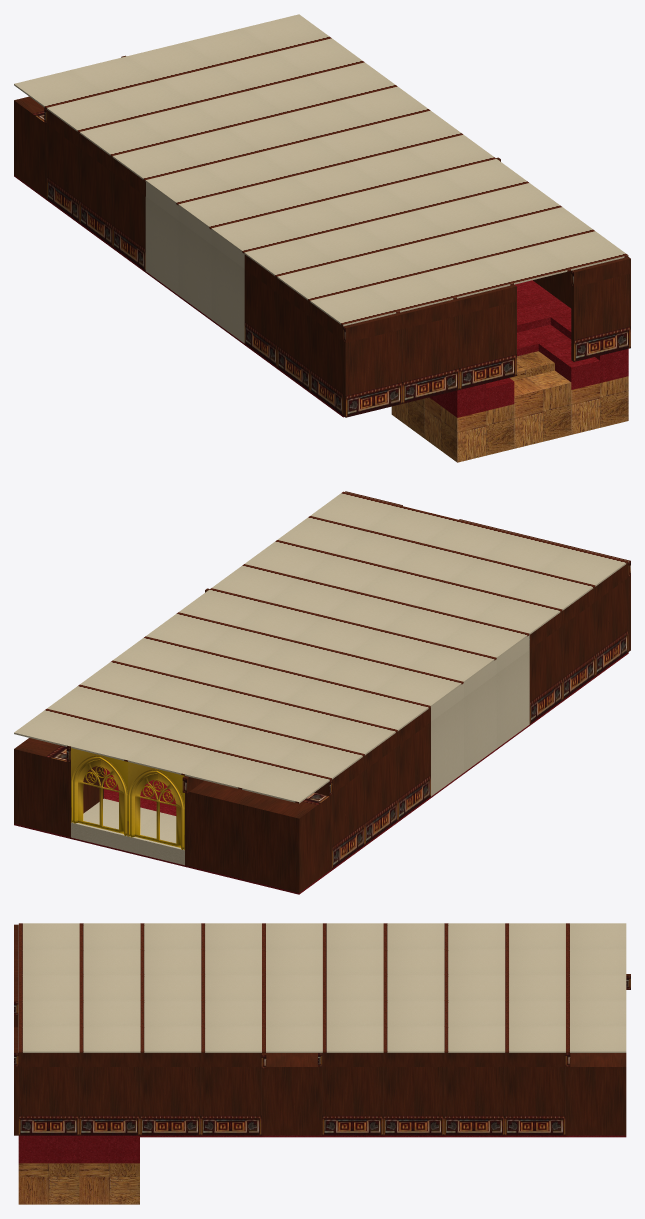
File: Library.fbx
3 renders of one model, top to bottom at view 1: azimuth 30°, elevation 25°; view 2: azimuth 150°, elevation 25°; view 3: azimuth 270°, elevation 25°, orthographic. The views are drawn at different scales.
Parts seen in each view (by area): view 1: LibraryCeiling, LibraryStairs, LibraryWallB0Front.001, LibraryWallB0Left.002, LibraryWallB0Left, LibraryWallB0Left.001, LibraryWallB0Front, LibraryWallB1Front, LibraryWallB0Right.005, LibraryWallB1Left, LibraryWallB1Left.001, LibraryWallB1Front.001 (+3 smaller); view 2: LibraryCeiling, LibraryWallB0Right.005, LibraryWallB0Left.002, LibraryWallB0Left, LibraryWallB0Left.001, LibraryWallB0Right.006, LibraryWallB0Right.002, LibraryWallB0Right.003, LibraryWallB1Left, LibraryWallB1Left.001, LibraryFloor.001, LibraryFloor; view 3: LibraryCeiling, LibraryWallB0Right.001, LibraryWallB0Right, LibraryStairs, LibraryWallB0Right.002, LibraryWallB0Right.004, LibraryWallB1Right.001, LibraryWallB1Right, LibraryFloor.001, LibraryWallB1Front.
Boxes of the visible parts, x1,y1,x2,y2 form: LibraryCeiling: (14,14,628,326); LibraryStairs: (391,299,628,462); LibraryWallB0Front.001: (343,301,516,417); LibraryWallB0Left.002: (145,182,244,343); LibraryWallB0Left: (244,269,343,415); LibraryWallB0Left.001: (47,124,145,270); LibraryWallB0Front: (571,273,630,361); LibraryWallB1Front: (343,284,516,342); LibraryWallB0Right.005: (14,96,46,198); LibraryWallB1Left: (244,254,347,340); LibraryWallB1Left.001: (47,110,145,196); LibraryWallB1Front.001: (571,257,630,287); LibraryCeiling: (14,491,628,803); LibraryWallB0Right.005: (185,780,331,892); LibraryWallB0Left.002: (431,635,529,796); LibraryWallB0Left: (529,578,628,723); LibraryWallB0Left.001: (332,722,430,868); LibraryWallB0Right.006: (71,748,184,850); LibraryWallB0Right.002: (14,738,103,837); LibraryWallB0Right.003: (71,798,184,865); LibraryWallB1Left: (529,563,628,649); LibraryWallB1Left.001: (332,707,430,794); LibraryFloor.001: (14,768,184,866); LibraryFloor: (185,652,628,894); LibraryCeiling: (18,923,626,1052); LibraryWallB0Right.001: (322,1067,565,1135); LibraryWallB0Right: (18,1067,261,1135); LibraryStairs: (18,1135,139,1204); LibraryWallB0Right.002: (565,1053,626,1135); LibraryWallB0Right.004: (261,1053,322,1135); LibraryWallB1Right.001: (322,1053,565,1066); LibraryWallB1Right: (18,1053,261,1066); LibraryFloor.001: (140,1135,626,1137); LibraryWallB1Front: (14,924,18,1015).
Bounding box in the file's own units: 1015 × 555 × 2030.
